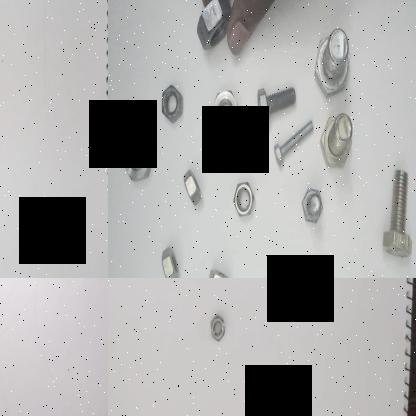Bolts: (377, 168, 416, 271), (314, 22, 354, 96), (316, 105, 356, 175), (252, 72, 300, 124), (270, 118, 316, 172), (293, 181, 325, 228)
NUTS: (115, 125, 158, 195), (206, 82, 244, 146), (191, 0, 233, 54), (227, 168, 257, 224), (156, 74, 184, 128), (179, 164, 205, 212), (156, 245, 183, 278), (202, 252, 234, 278), (208, 311, 226, 343)
